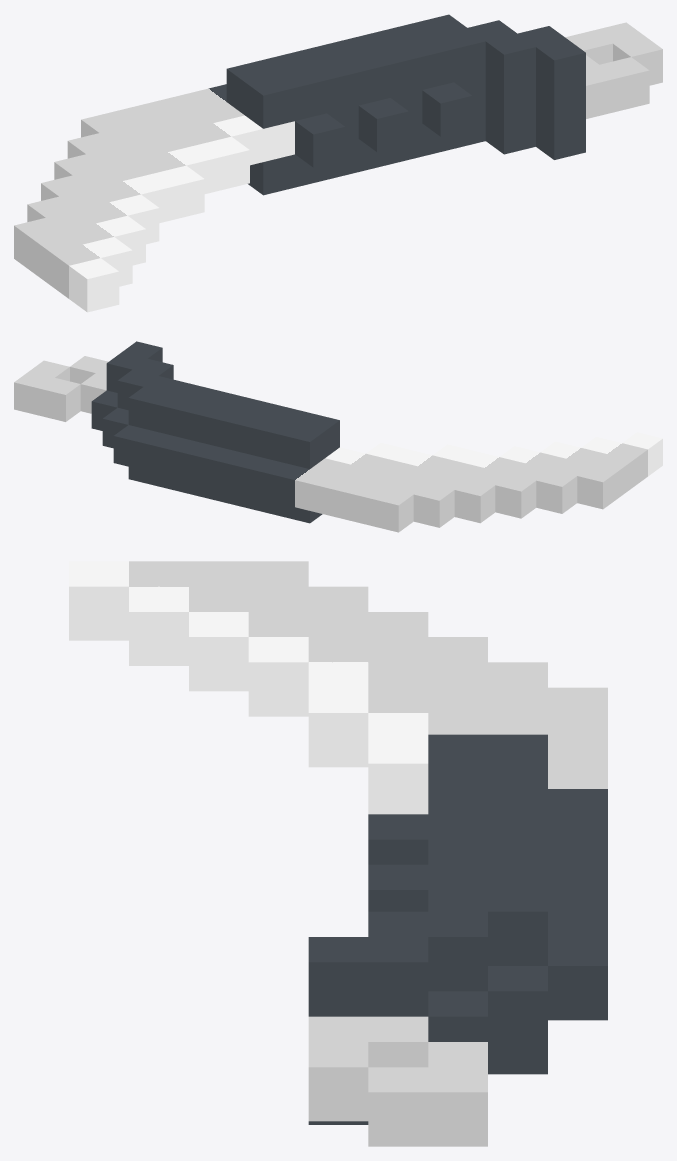
File: 偷袭爪刀.gltf
3 renders of one model, top to bottom at view 1: azimuth 30°, elevation 25°; view 2: azimuth 150°, elevation 25°; view 3: azimuth 270°, elevation 25°, orthographic. The views are drawn at different scales.
Parts seen in each view (by area): view 1: Object; view 2: Object; view 3: Object.
Boxes of the visible parts, x1,y1,x2,y2 form: Object: (14, 14, 662, 312); Object: (14, 341, 662, 532); Object: (69, 561, 607, 1146).
Size of the model in its own units: 21 by 3 by 9.
1 material, 1 textured.
